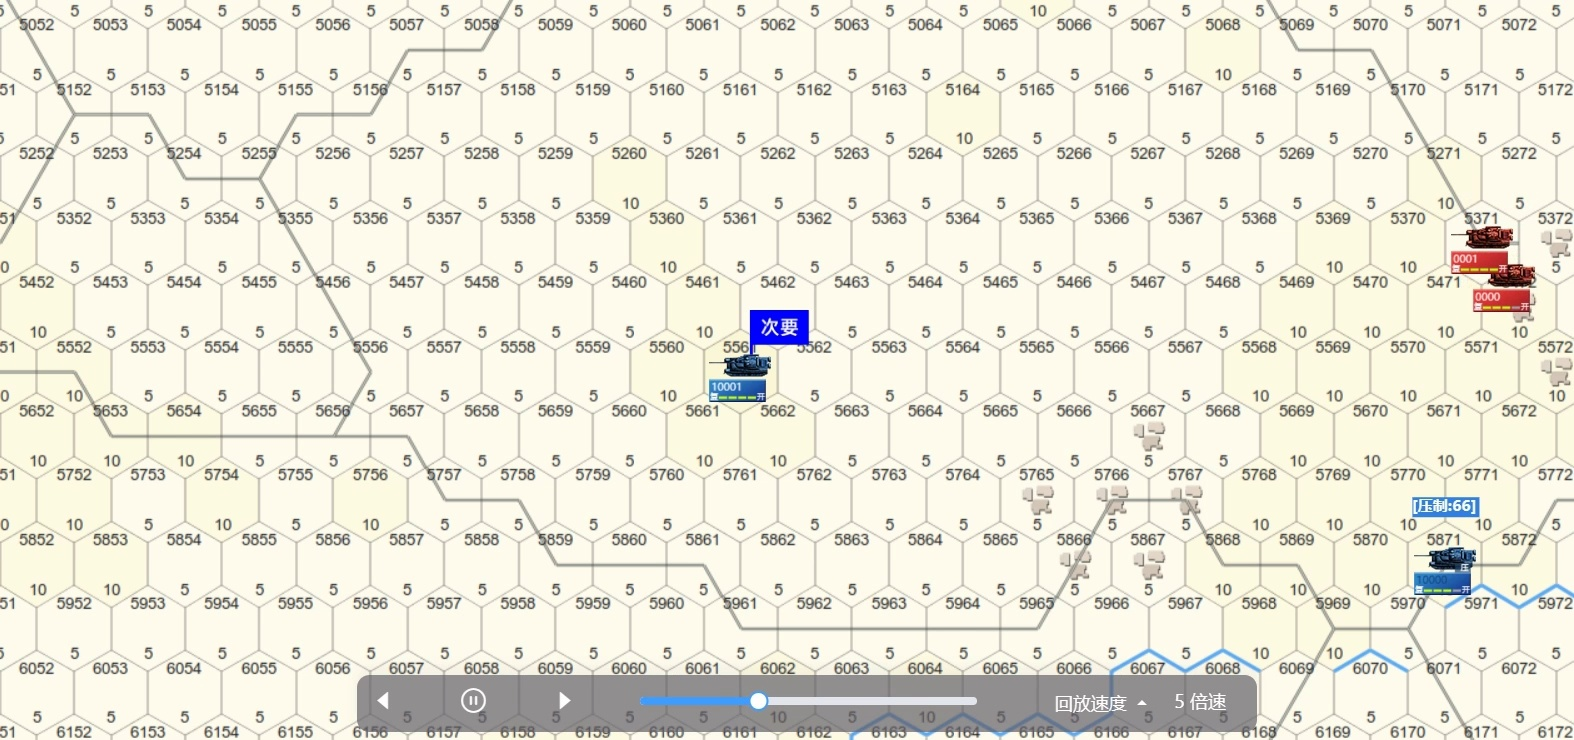blue_tank: (707, 359, 774, 403), (1415, 545, 1480, 589)
red_tank: (1463, 271, 1540, 325), (1450, 233, 1509, 277)
